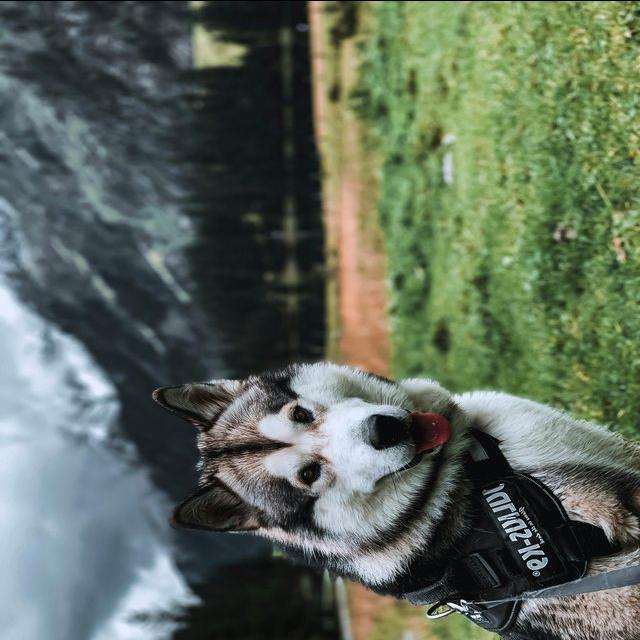husky: (150, 358, 639, 639)
